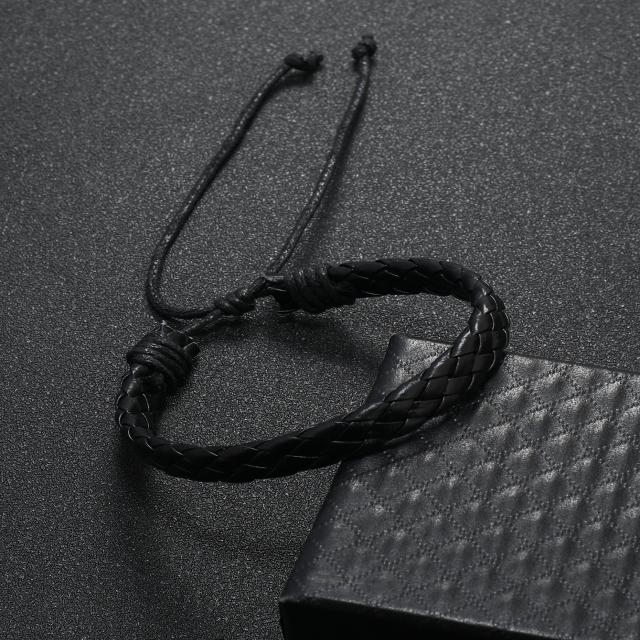bracelet: (54, 2, 572, 530)
